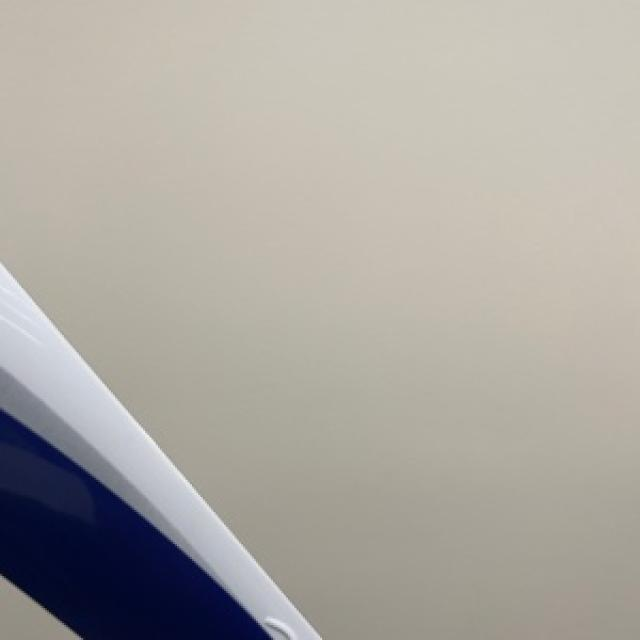healthy: (0, 262, 320, 638)
